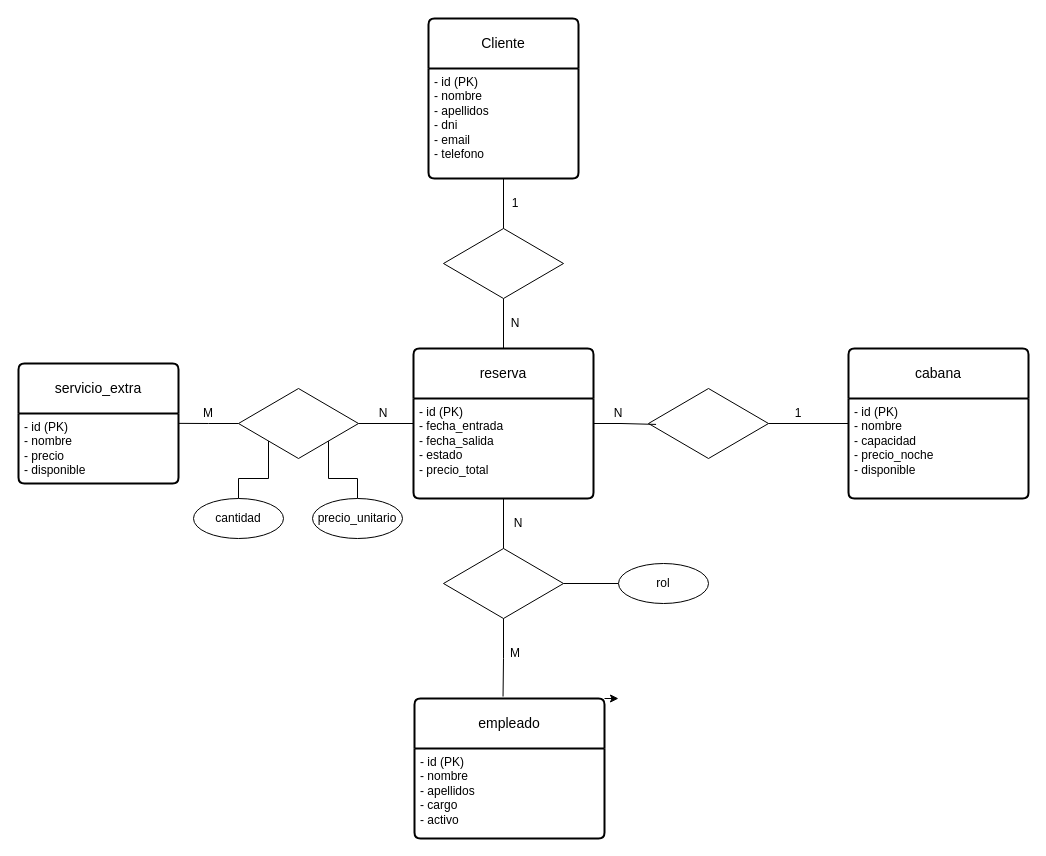
The diagram is 1046 pixels wide and 856 high, and some of its shapes have lost their labels. The shapes that lost their labels are listed below. From the top down, each one's centre as x and y in pixels, then its label:
At (x=503, y=263): "realiza".
At (x=298, y=423): "incluye".
At (x=708, y=423): "ocupa".
At (x=503, y=583): "gestiona".
